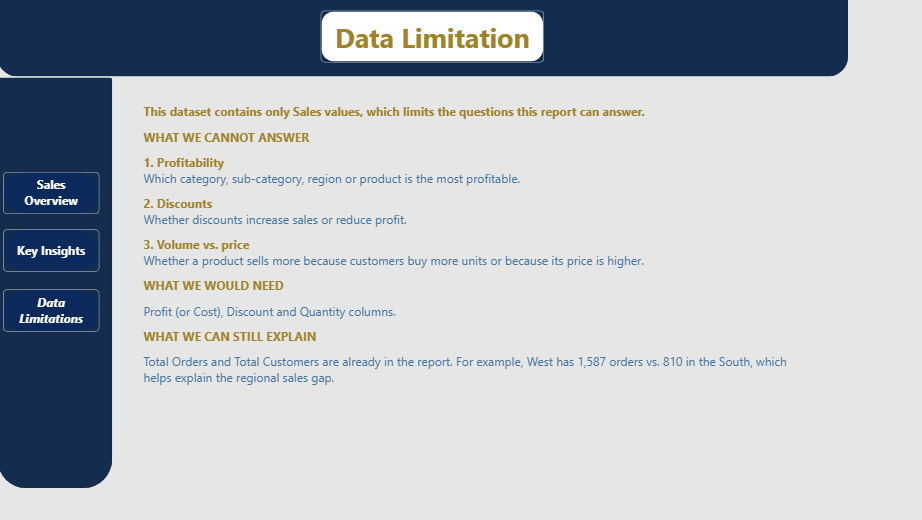

Layout of this report page (visuals, bound fields, positions):
{"tool":"powerbi","page":{"name":"Data Limitations","canvas":[1920,1080],"ordinal":7},"visuals":[{"type":"textbox","box":[42,272,1798,480],"z":0},{"type":"textbox","box":[72,50,1726,198],"z":1000}]}

Visuals, with their boxes in screenshot pixels (x1, y1, x2, y2), scaled from the page's 1920x1080 canvas onto the 922x520 screenshot:
textbox: l=20, t=131, r=884, b=362
textbox: l=35, t=24, r=863, b=119
